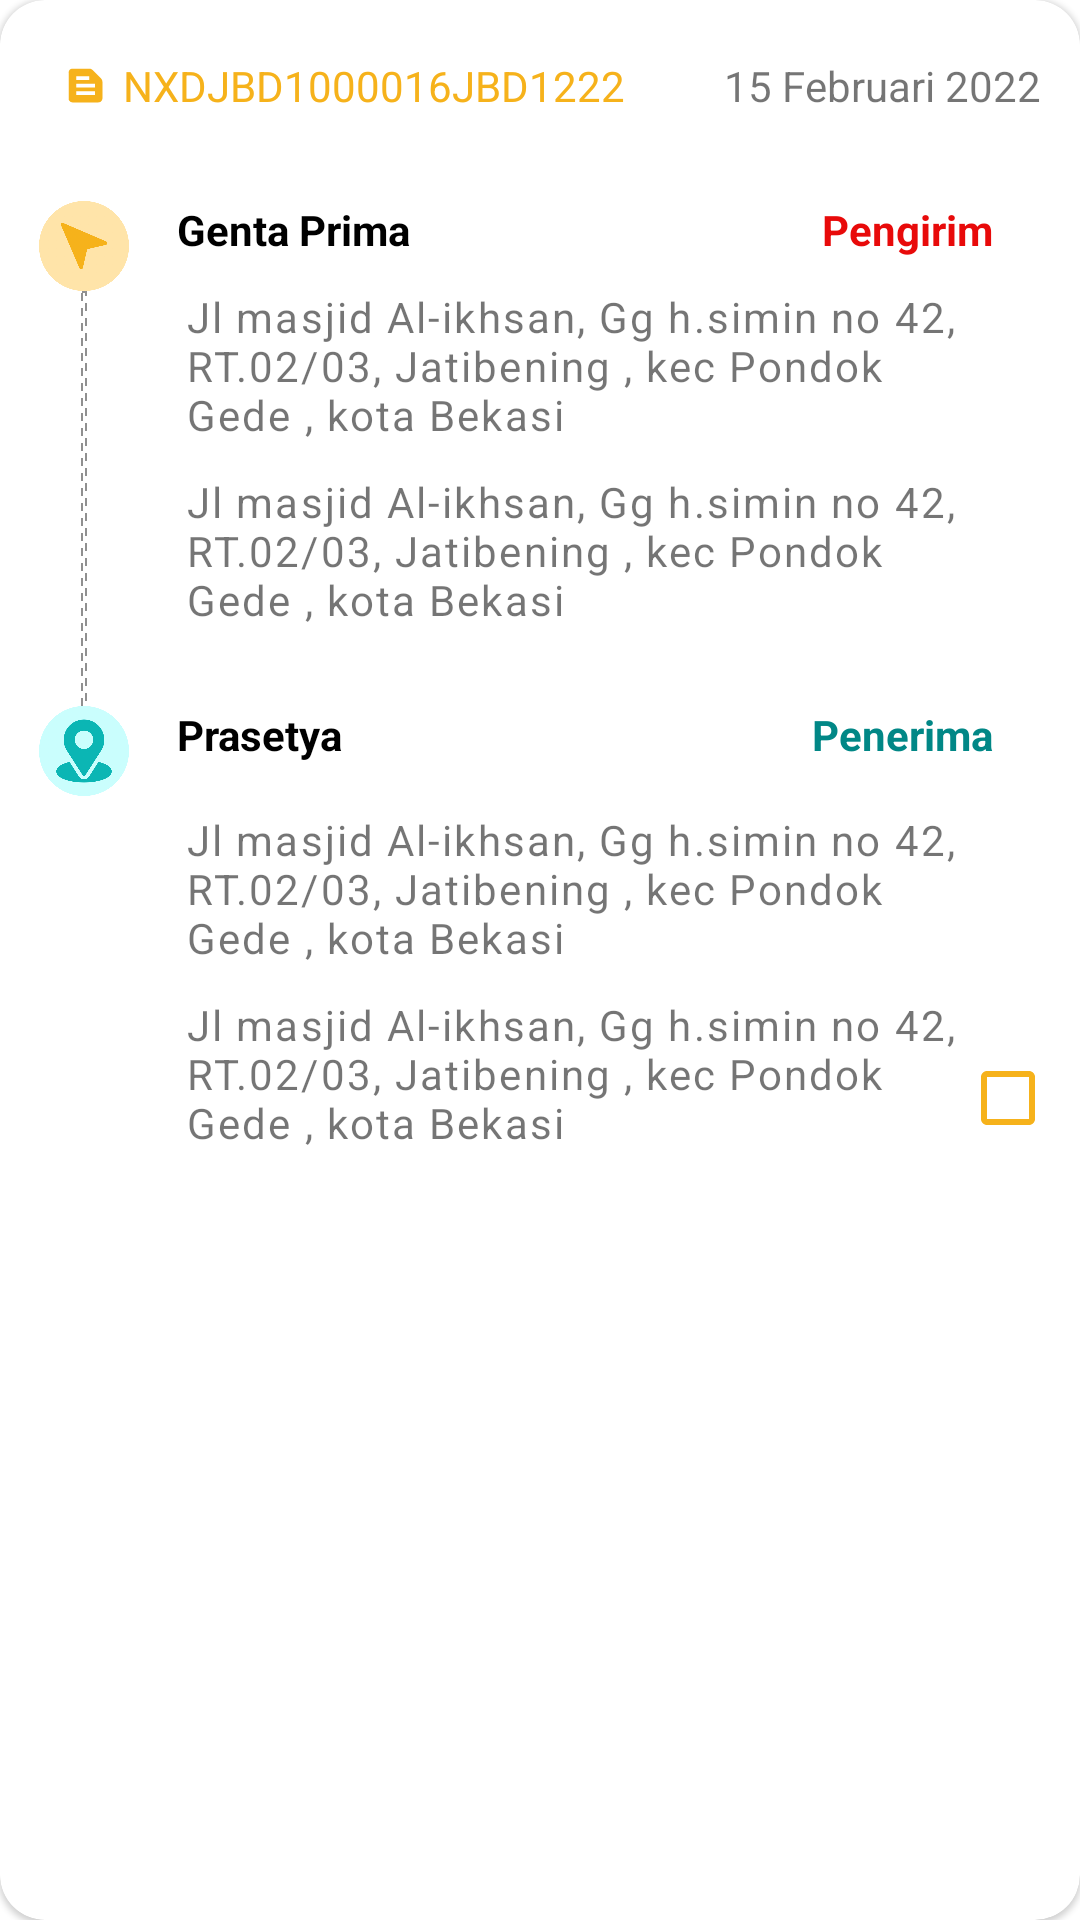

Named icons in this screenshot (1080 x 1920) and their bounding boxes, detection(x1, y1, x2, y2):
location: detection(39, 706, 129, 796)
nearme: detection(39, 201, 129, 291)
text snippet: detection(68, 68, 103, 103)
